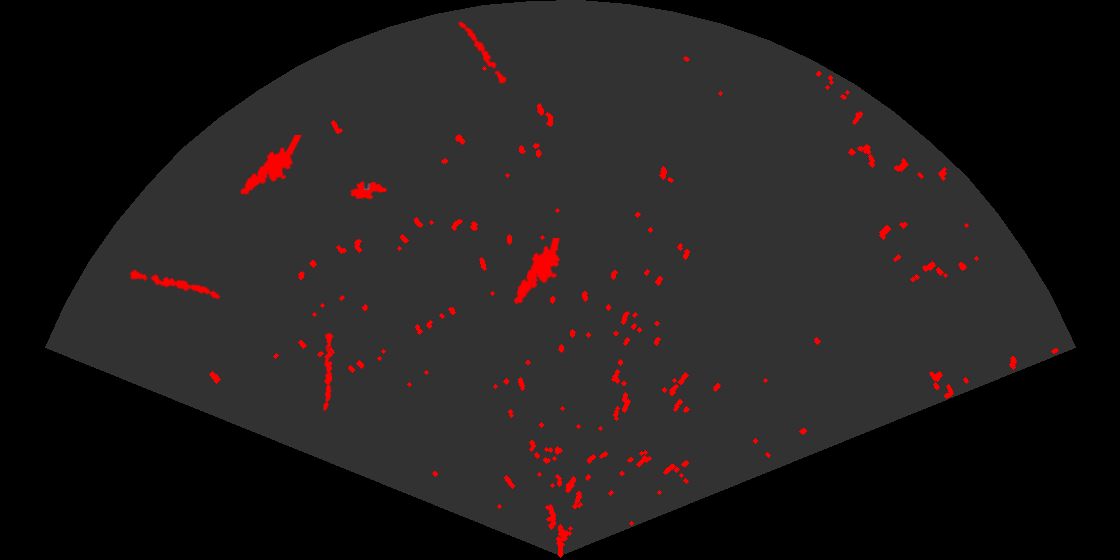AUV: (348, 179, 389, 201)
chain: (457, 20, 511, 89), (127, 268, 223, 301), (322, 332, 335, 412)
frogman: (238, 135, 303, 197), (512, 238, 562, 307)
